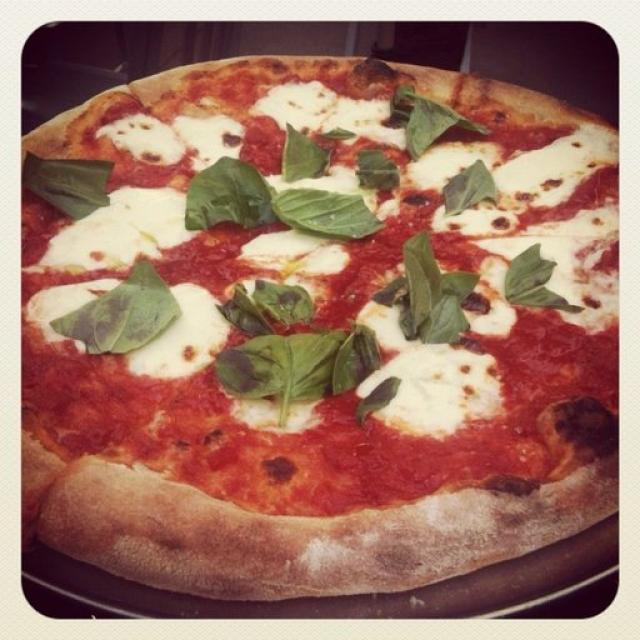Basil: (222, 327, 368, 401), (58, 259, 165, 353), (184, 150, 266, 228), (408, 235, 469, 328), (275, 185, 379, 234), (21, 152, 110, 207), (218, 275, 300, 324), (512, 240, 564, 310), (396, 88, 463, 142), (283, 120, 327, 174), (359, 142, 400, 186)
Cheese: (362, 347, 498, 428), (54, 185, 190, 263), (496, 122, 617, 198), (140, 287, 228, 368), (260, 82, 378, 126), (244, 230, 344, 274), (109, 114, 180, 167), (34, 273, 100, 314), (564, 269, 618, 319), (183, 111, 239, 159), (420, 142, 479, 178), (359, 299, 407, 339), (546, 215, 620, 233), (272, 176, 362, 186)
Pizza: (22, 56, 619, 606)
